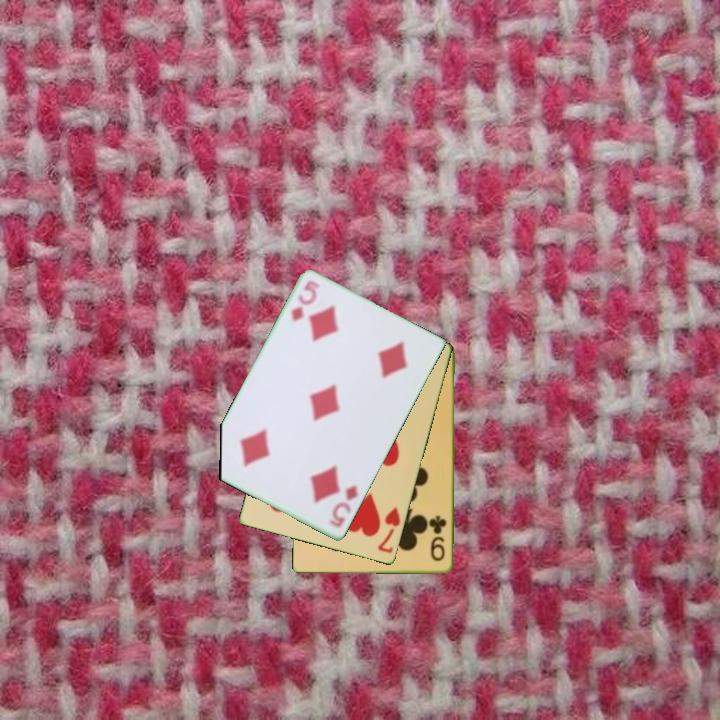5d: (325, 481, 361, 531), (288, 277, 323, 326)
7h: (374, 504, 403, 557)
9c: (428, 512, 449, 564)
